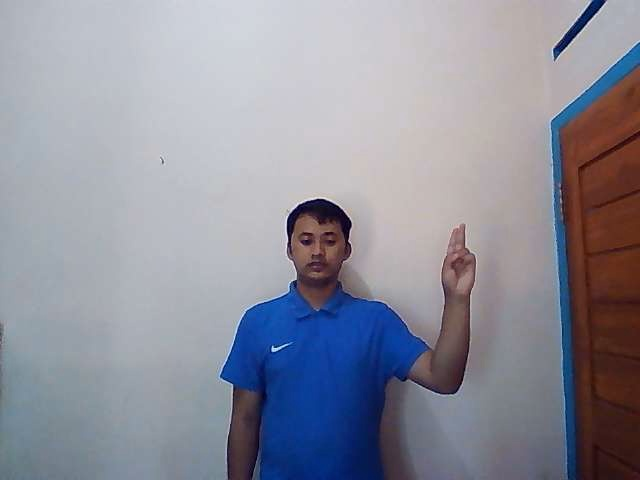U: (440, 222, 476, 296)
